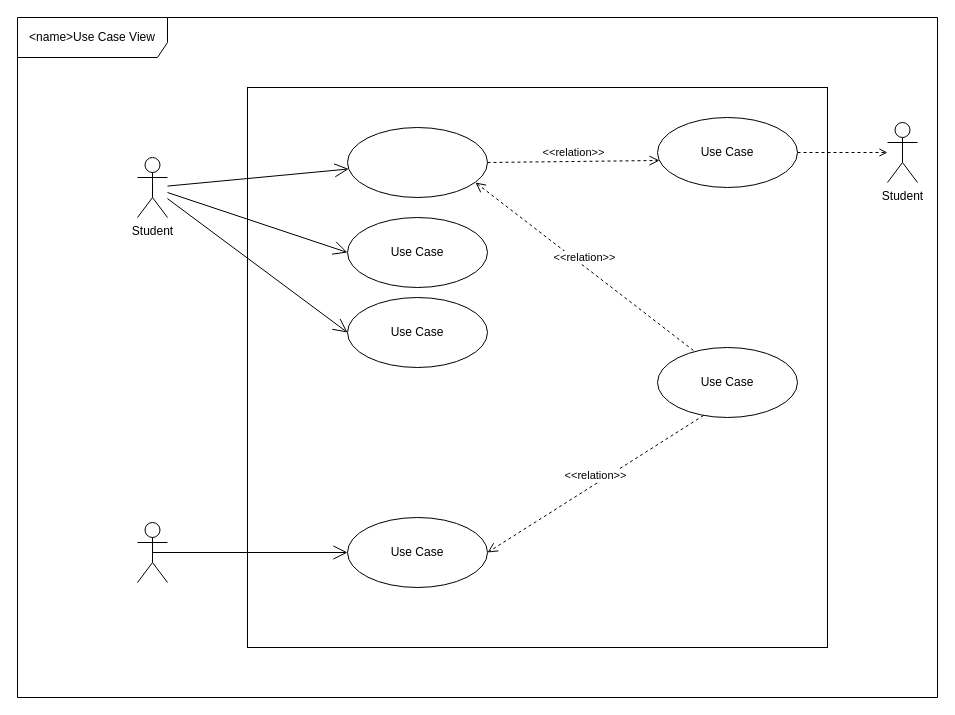
Some shapes in this 955 by 715 pixel diagram are drawn without their labels. The box of each missing label's shape, as (x1, y1, x2, y2) in pixels:
<Event name>: (246, 86, 828, 648)
Actor: (136, 522, 168, 582)
Open rooms: (346, 126, 488, 198)
